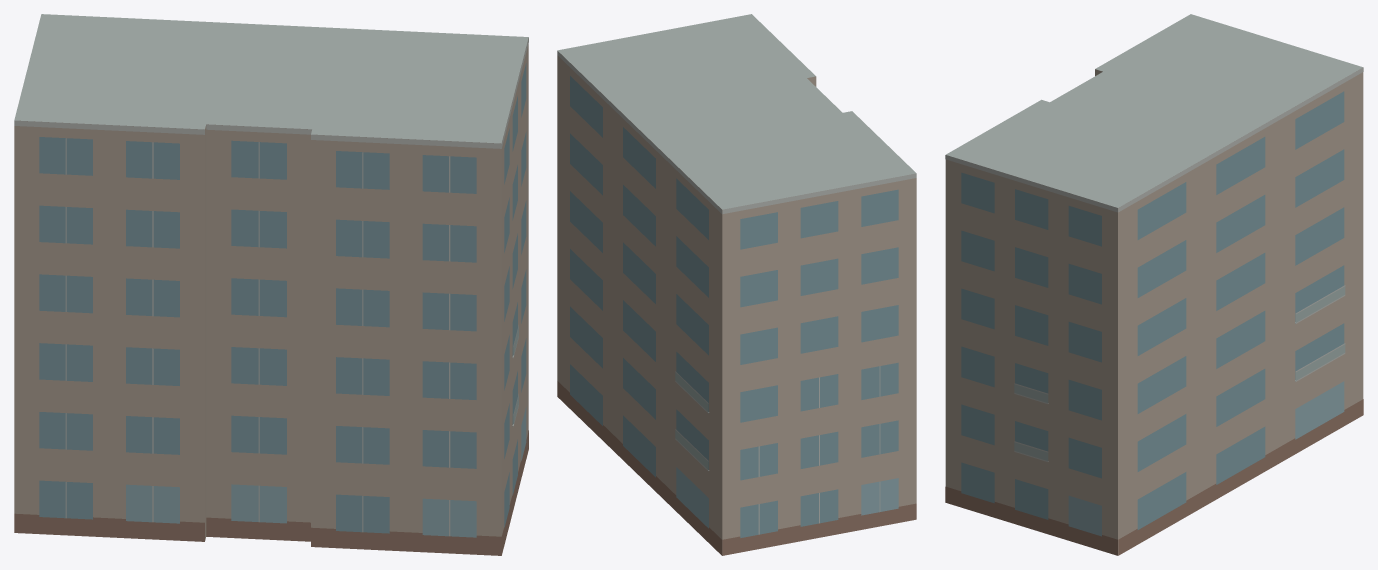
File: survey-upis-32652635.glb
3 views of the same model, side by side, from view 1: azimuth 30°, elevation 25°; view 2: azimuth 150°, elevation 25°; view 3: azimuth 270°, elevation 25° (orthographic). The views are drawn at different scales.
Parts seen in each view (by area): view 1: survey-upis-32652635.tmp; view 2: survey-upis-32652635.tmp; view 3: survey-upis-32652635.tmp.
Part boxes in pixels (left/top/right/bottom): survey-upis-32652635.tmp: left=14, top=14, right=528, bottom=555; survey-upis-32652635.tmp: left=557, top=14, right=916, bottom=555; survey-upis-32652635.tmp: left=945, top=14, right=1363, bottom=555.
Size of the model in its own units: 22.26 by 18.6 by 20.26.
